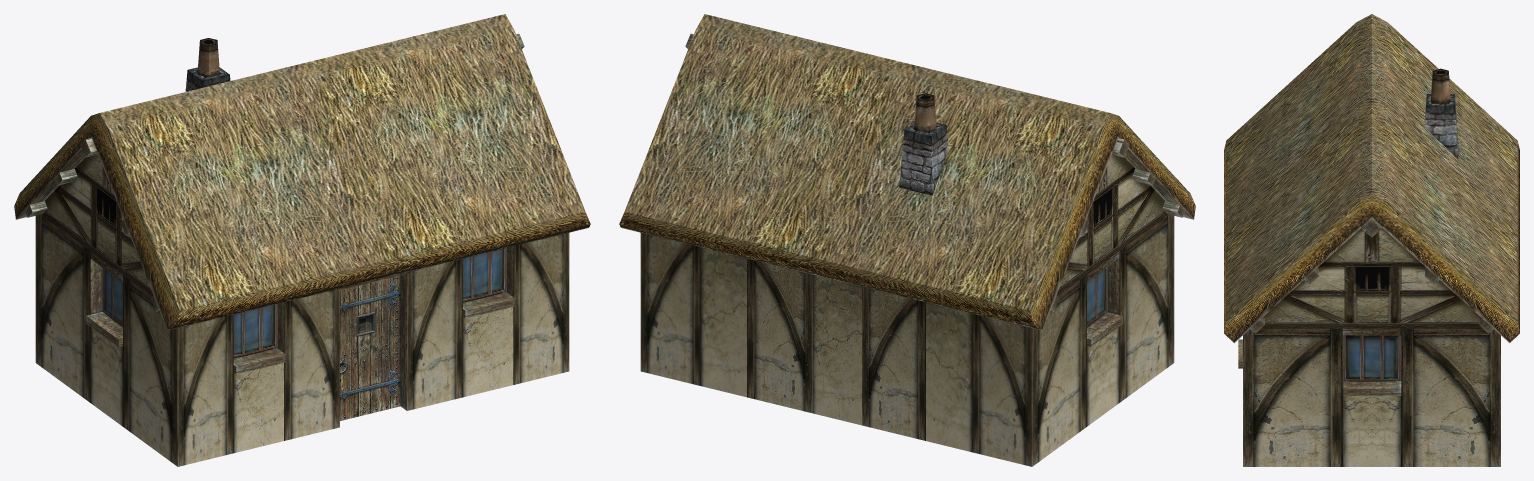
File: S_home06.glb
The picture shows the model from 3 angles, left to right: view 1: azimuth 30°, elevation 25°; view 2: azimuth 150°, elevation 25°; view 3: azimuth 270°, elevation 25°; orthographic projection. The views are drawn at different scales.
Visible parts, largest first — view 1: S_home06-col; view 2: S_home06-col; view 3: S_home06-col.
Boxes of the visible parts, box(x1,y1,x2,y2) form: S_home06-col: box(14, 14, 590, 466); S_home06-col: box(619, 14, 1195, 466); S_home06-col: box(1224, 14, 1519, 466).
Size of the model in its own units: 7.76 by 5.32 by 5.04.
Materials: 9 (9 with a texture image).
